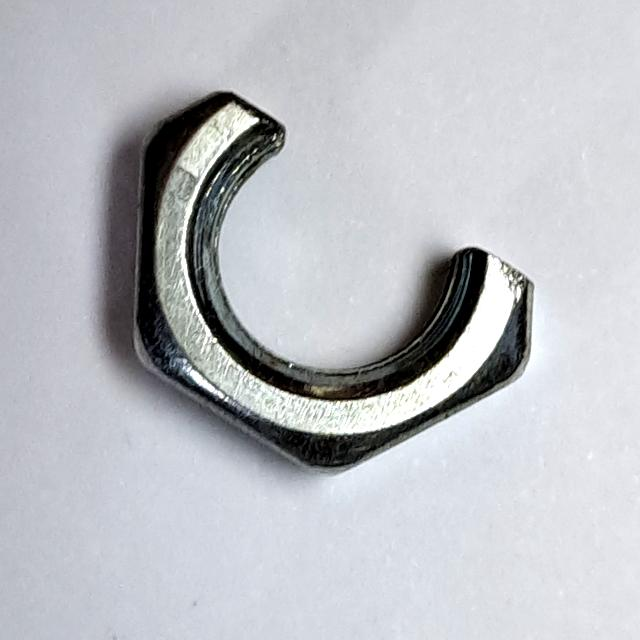Fracture: (122, 72, 552, 489)
